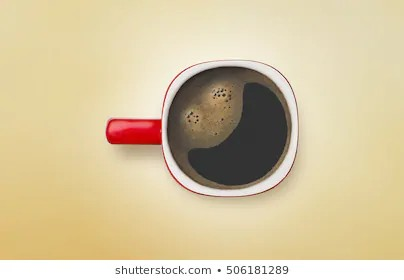nescafe-mug: (104, 53, 301, 196)
